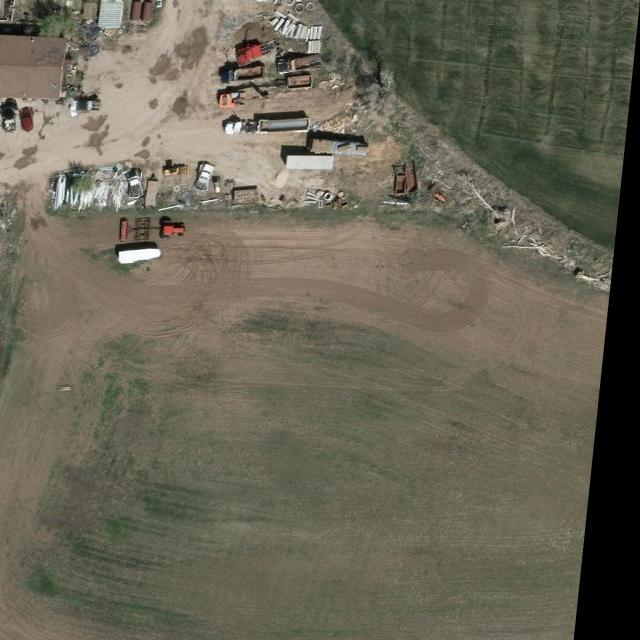vehicle: (226, 118, 314, 136), (236, 41, 285, 64), (70, 94, 108, 120), (223, 66, 270, 85), (278, 56, 324, 72), (196, 162, 218, 194), (129, 169, 150, 199), (2, 101, 21, 134), (17, 106, 39, 133)
